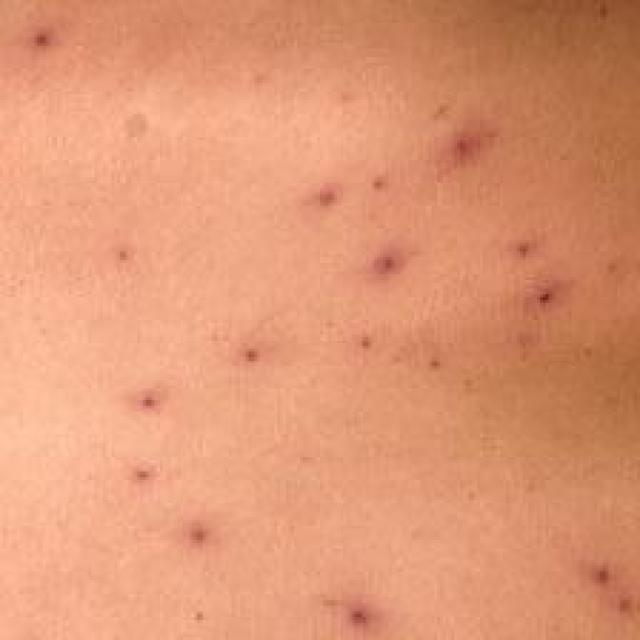others: (24, 74, 640, 640)
